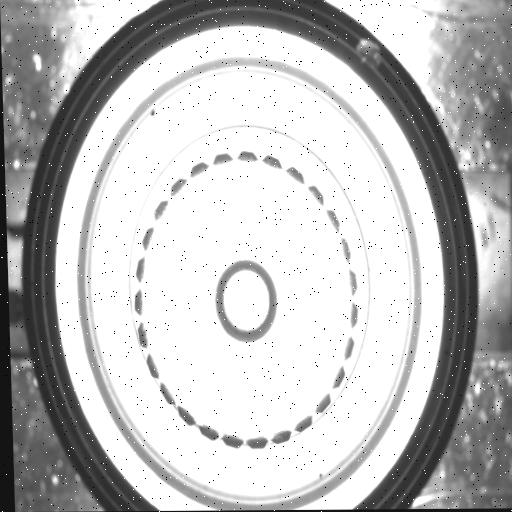gear: (131, 149, 363, 450)
